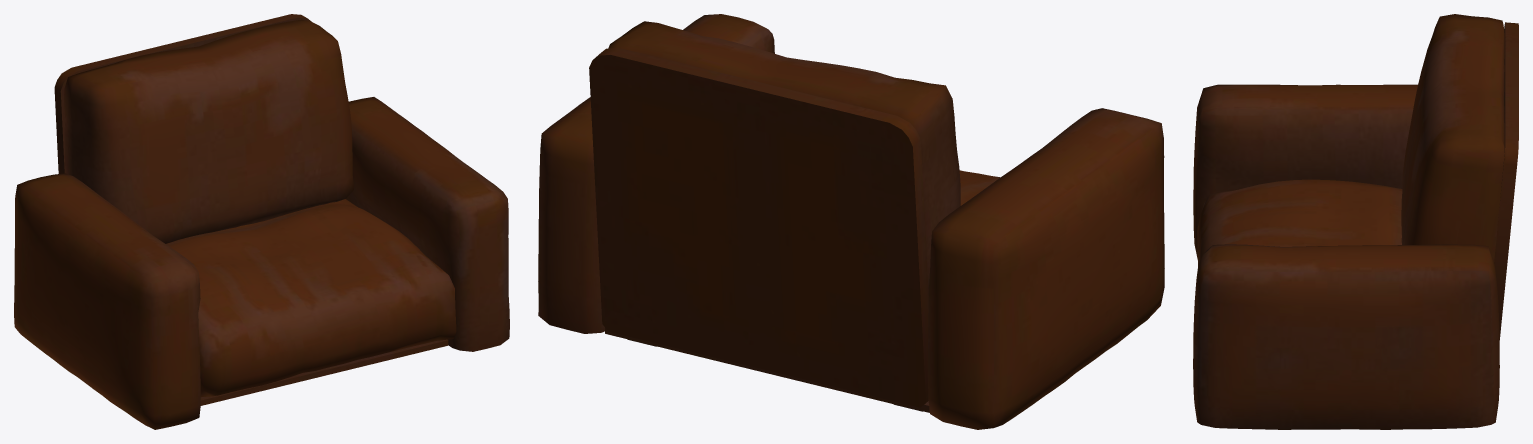
Rendered from SM_Sofa_Single_01.glb.
The picture shows the model from 3 angles, left to right: view 1: azimuth 30°, elevation 25°; view 2: azimuth 150°, elevation 25°; view 3: azimuth 270°, elevation 25°; orthographic projection. The views are drawn at different scales.
Parts seen in each view (by area): view 1: SM_Sofa_Single_01; view 2: SM_Sofa_Single_01; view 3: SM_Sofa_Single_01.
Part boxes in pixels (bbox=[...]): SM_Sofa_Single_01: bbox=[14, 14, 509, 429]; SM_Sofa_Single_01: bbox=[538, 14, 1164, 429]; SM_Sofa_Single_01: bbox=[1193, 14, 1518, 429].
Size of the model in its own units: 1.78 by 1.09 by 1.22.
Materials: 1 (1 with a texture image).
